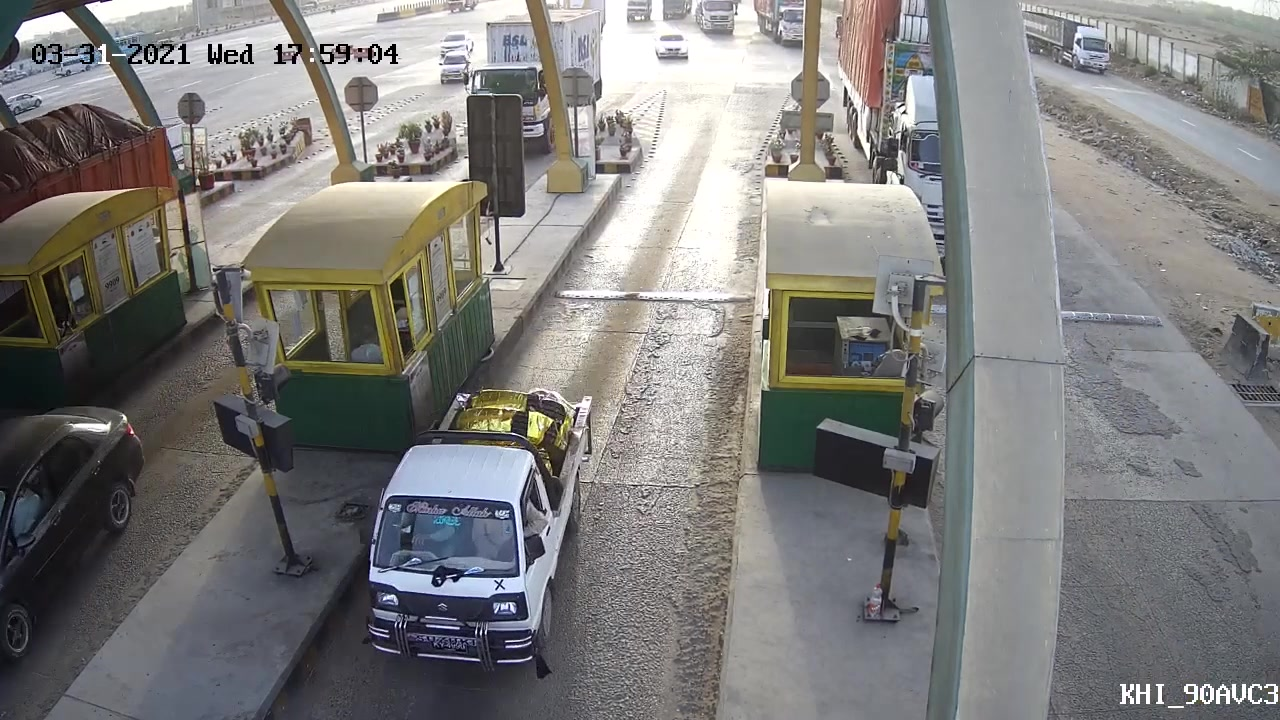F1: (342, 380, 595, 681)
